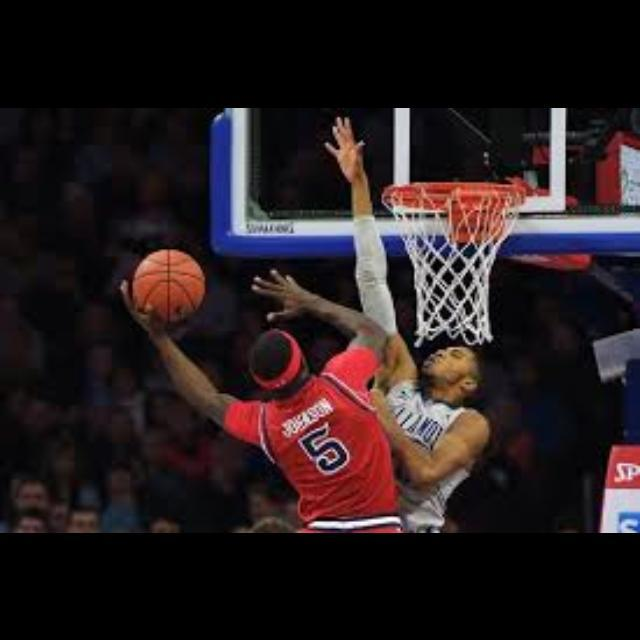basketball: (134, 250, 204, 318)
rim: (382, 182, 522, 342)
